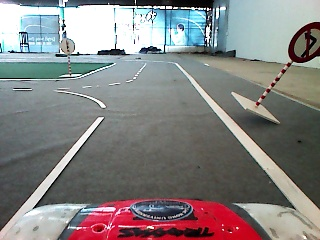ban_left: (289, 22, 320, 63)
